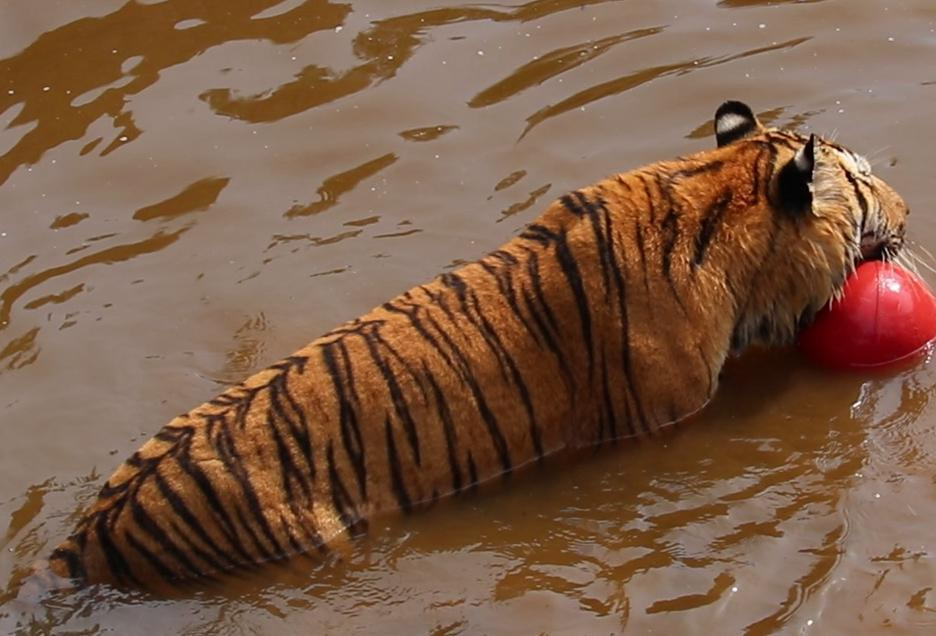tiger: (47, 102, 908, 586)
